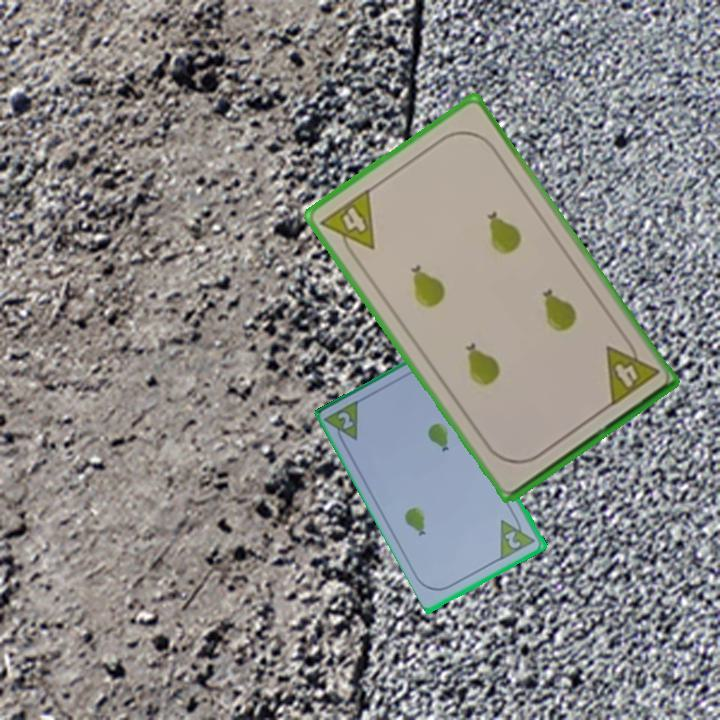2p: (497, 510, 539, 562), (334, 408, 357, 433)
4p: (317, 184, 378, 264), (601, 332, 662, 410)
